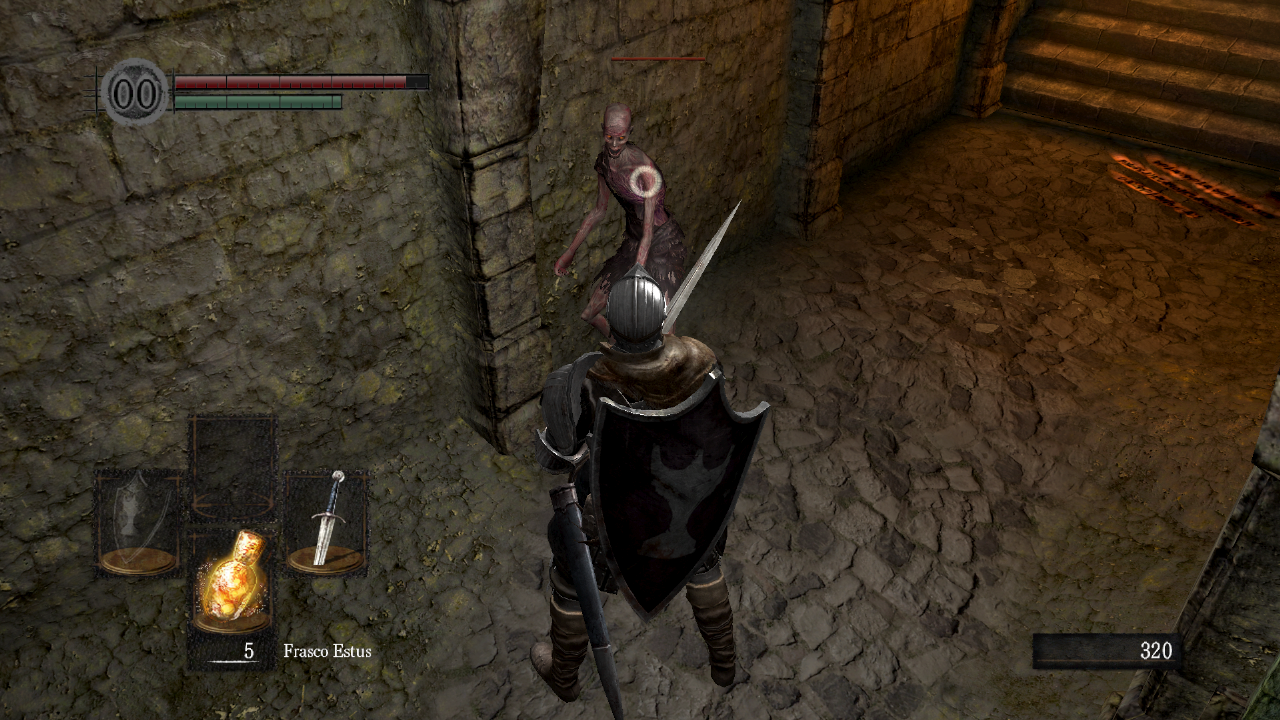hollow: (552, 102, 687, 344)
player: (529, 199, 772, 720)
